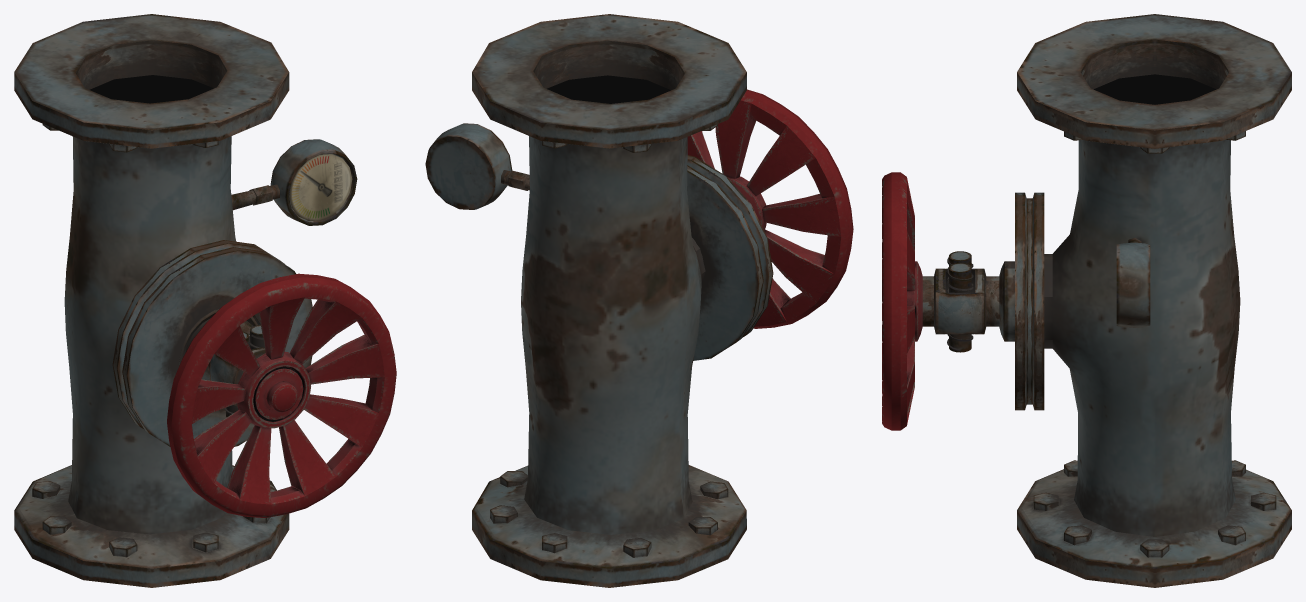
Rendered from pipe08.glb.
3 views of the same model, side by side, from view 1: azimuth 30°, elevation 25°; view 2: azimuth 150°, elevation 25°; view 3: azimuth 270°, elevation 25° (orthographic).
Parts seen in each view (by area): view 1: modular_industrial_pipes_01_pipe08.001; view 2: modular_industrial_pipes_01_pipe08.001; view 3: modular_industrial_pipes_01_pipe08.001.
Boxes of the visible parts, <box> form: modular_industrial_pipes_01_pipe08.001: <box>14,14,396,587</box>; modular_industrial_pipes_01_pipe08.001: <box>425,14,853,587</box>; modular_industrial_pipes_01_pipe08.001: <box>882,14,1291,587</box>.
Bounding box in the file's own units: 0.2663 × 0.3788 × 0.3076.
Materials: 1 (1 with a texture image).
